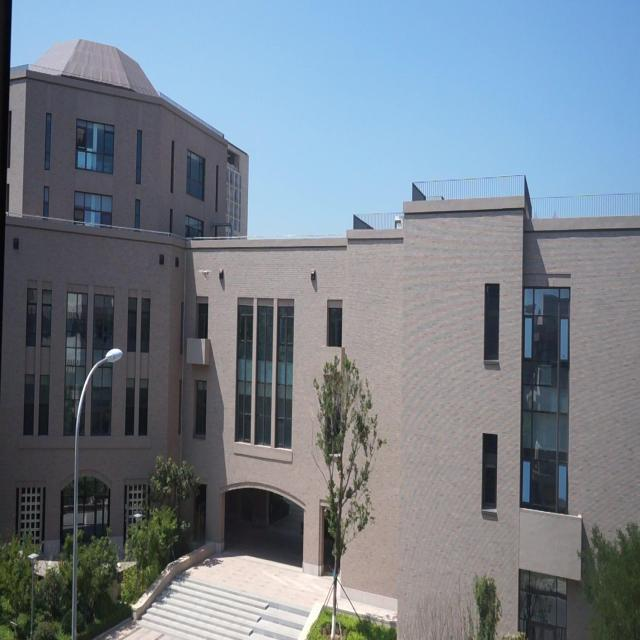drone: (199, 264, 213, 284)
